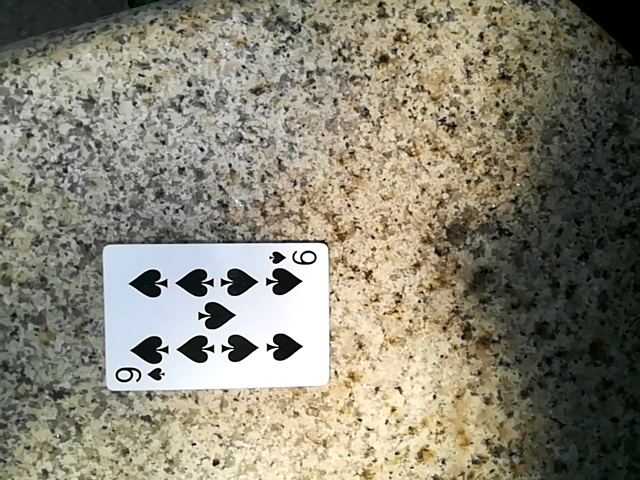ht 9: (91, 248, 328, 400)
